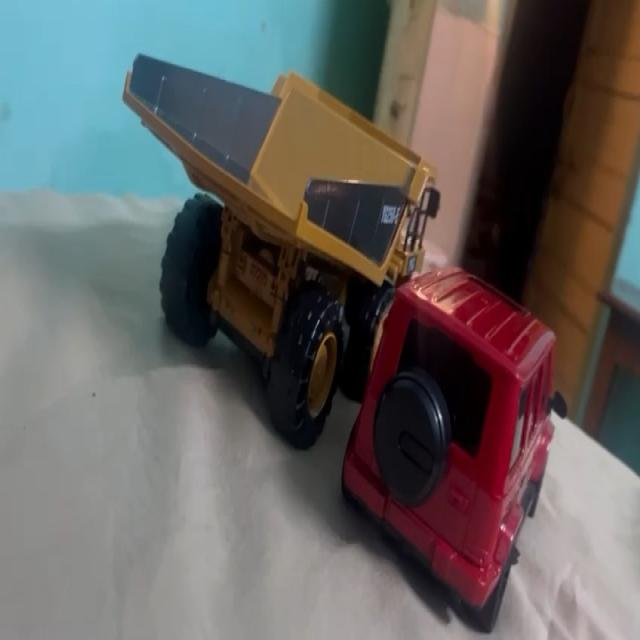dump_truck: (125, 33, 343, 425)
light_vehicle: (368, 276, 556, 615)
